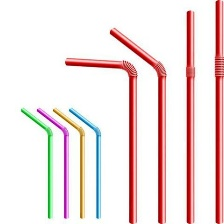drinking_straw: (60, 51, 141, 224), (106, 23, 169, 223), (11, 105, 54, 221), (180, 7, 200, 223), (210, 0, 224, 224)
